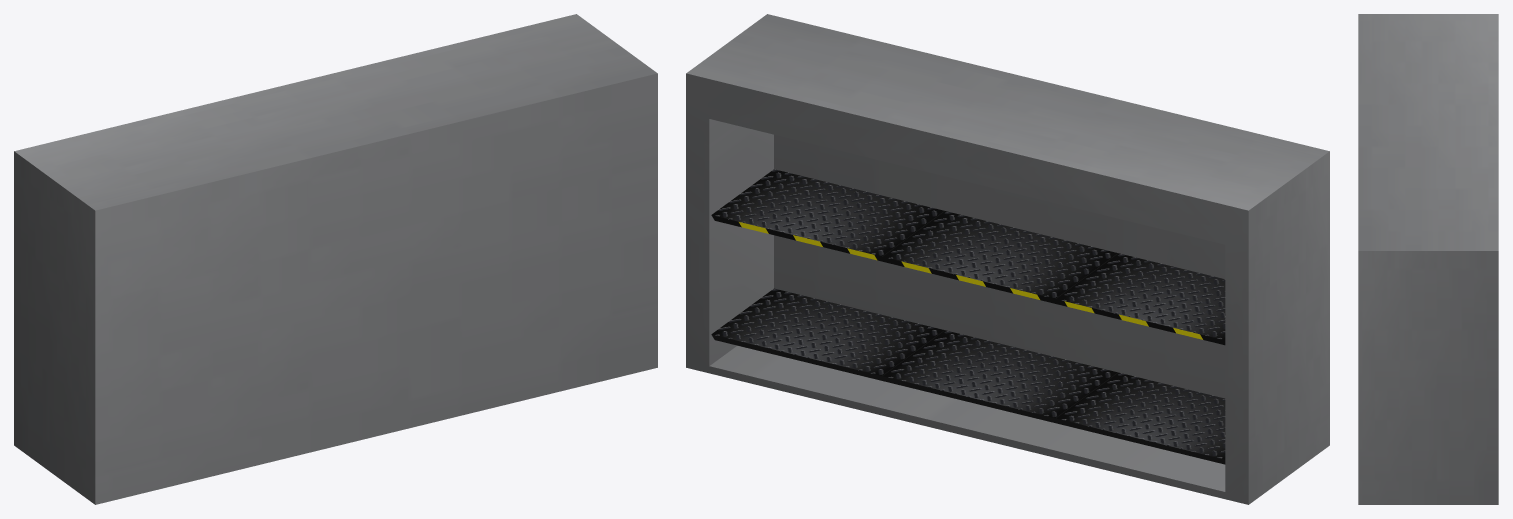
Rendered from estante 1.fbx.
3 renders of one model, left to right at view 1: azimuth 30°, elevation 25°; view 2: azimuth 150°, elevation 25°; view 3: azimuth 270°, elevation 25°, orthographic. The views are drawn at different scales.
Visible parts, largest first — view 1: Estante; view 2: Estante; view 3: Estante.
Part boxes in pixels (x1=…): Estante: x1=14, y1=14, x2=657, y2=504; Estante: x1=686, y1=14, x2=1329, y2=504; Estante: x1=1358, y1=14, x2=1498, y2=504.
Size of the model in its own units: 600 by 300 by 150.
3 materials, 3 textured.
